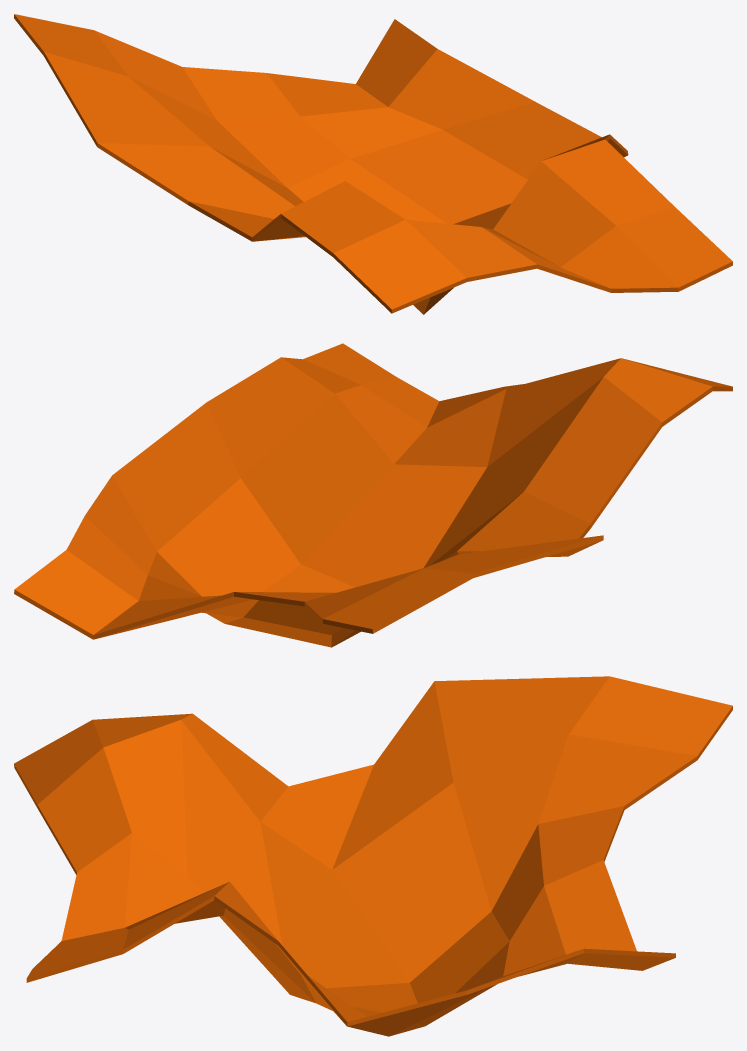
Rendered from plastic wrap 2.fbx.
3 views of the same model, one above another, from view 1: azimuth 30°, elevation 25°; view 2: azimuth 150°, elevation 25°; view 3: azimuth 270°, elevation 25° (orthographic). The views are drawn at different scales.
Visible parts, largest first — view 1: Plane; view 2: Plane; view 3: Plane.
Boxes of the visible parts, x1,y1,x2,y2 form: Plane: (14, 14, 732, 314); Plane: (14, 343, 732, 647); Plane: (14, 676, 732, 1036).
Bounding box in the file's own units: 15.26 × 6.13 × 19.05.
